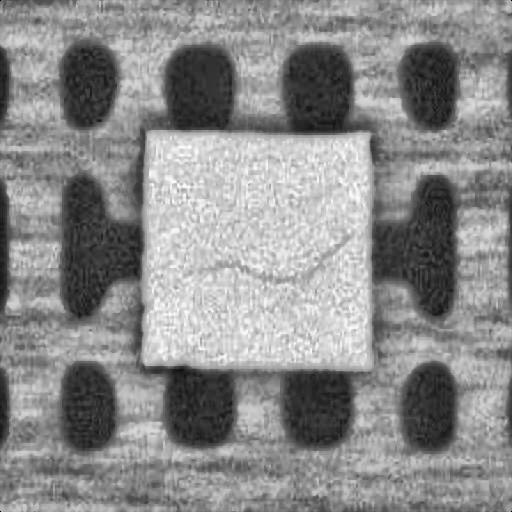DIE_CRACK: (177, 230, 356, 278)
